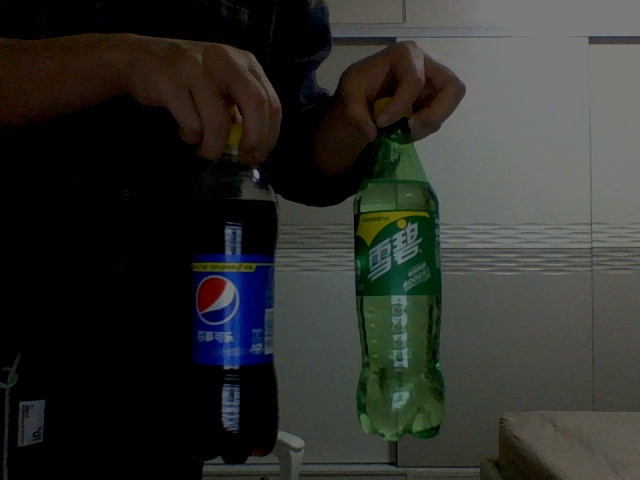Cola: (190, 124, 278, 465)
Sprite: (354, 99, 446, 437)
